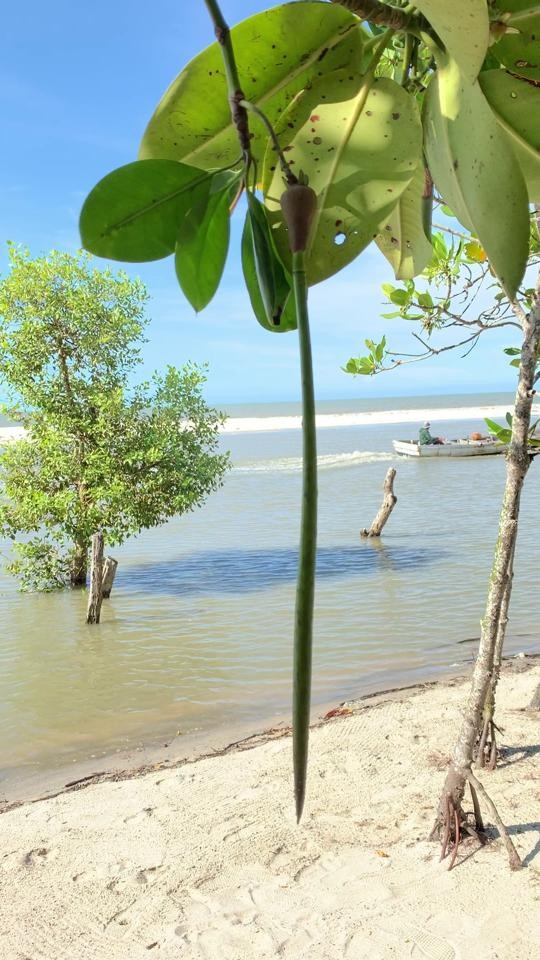setengah matang: (276, 162, 335, 833)
